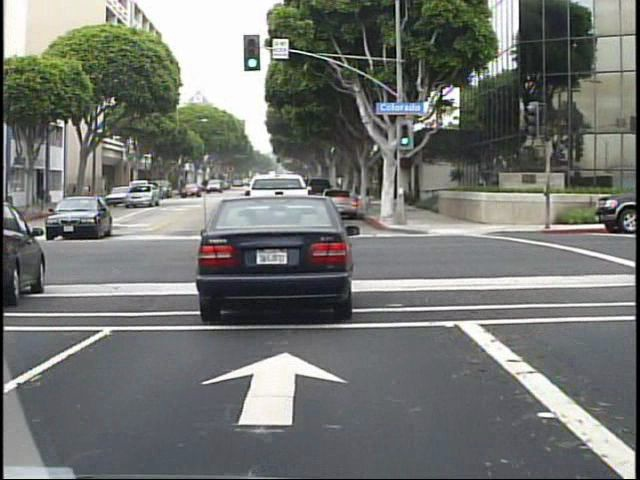person: (37, 183, 49, 211)
